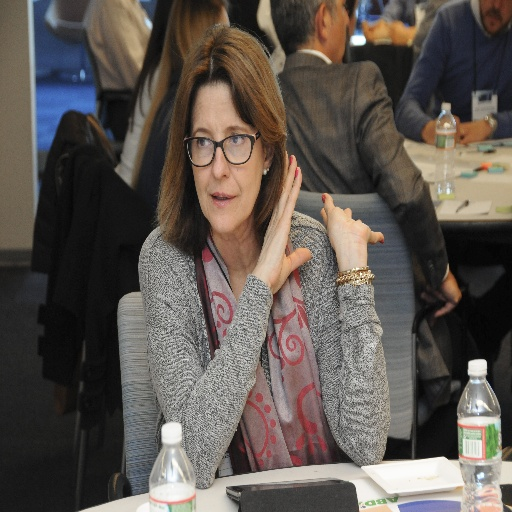hand: (252, 149, 312, 293), (330, 201, 392, 279), (420, 267, 461, 317), (421, 111, 463, 146), (363, 18, 390, 46), (459, 119, 488, 145), (389, 18, 414, 45)
